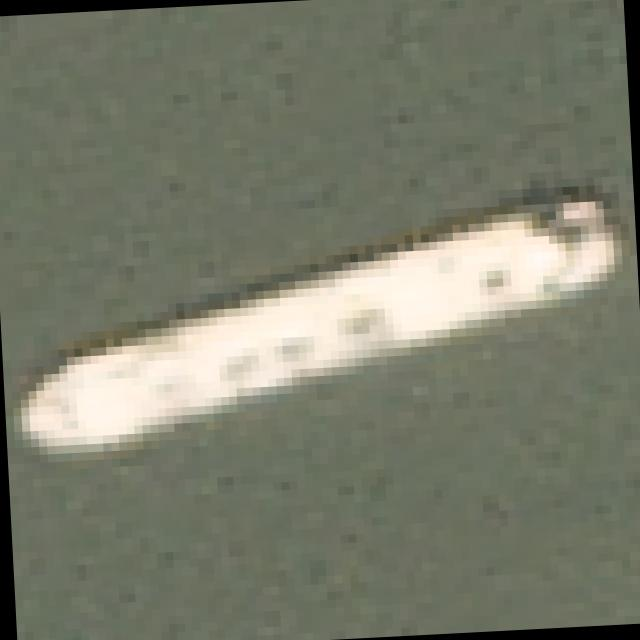ship: (16, 160, 640, 537)
